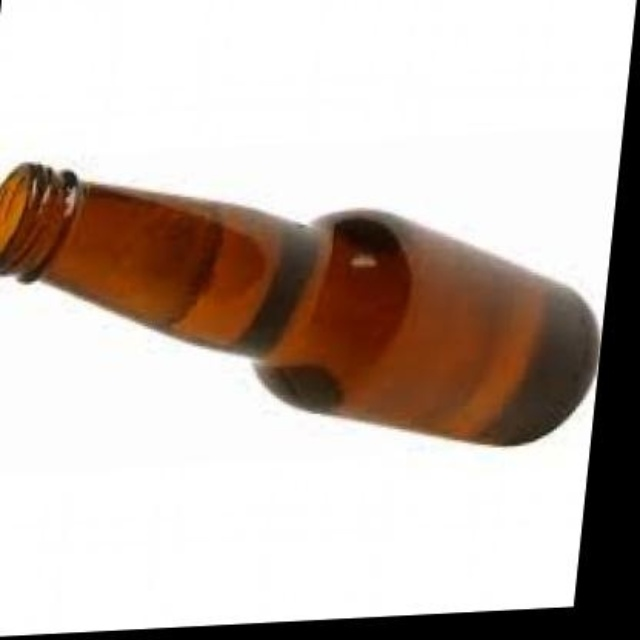trash: (0, 163, 597, 445)
